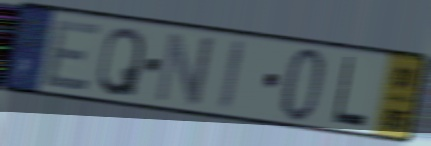0: (277, 46, 328, 125)
E: (40, 18, 105, 93)
I: (215, 37, 248, 115)
L: (330, 53, 369, 131)
N: (151, 28, 217, 109)
Q: (94, 24, 147, 99)
